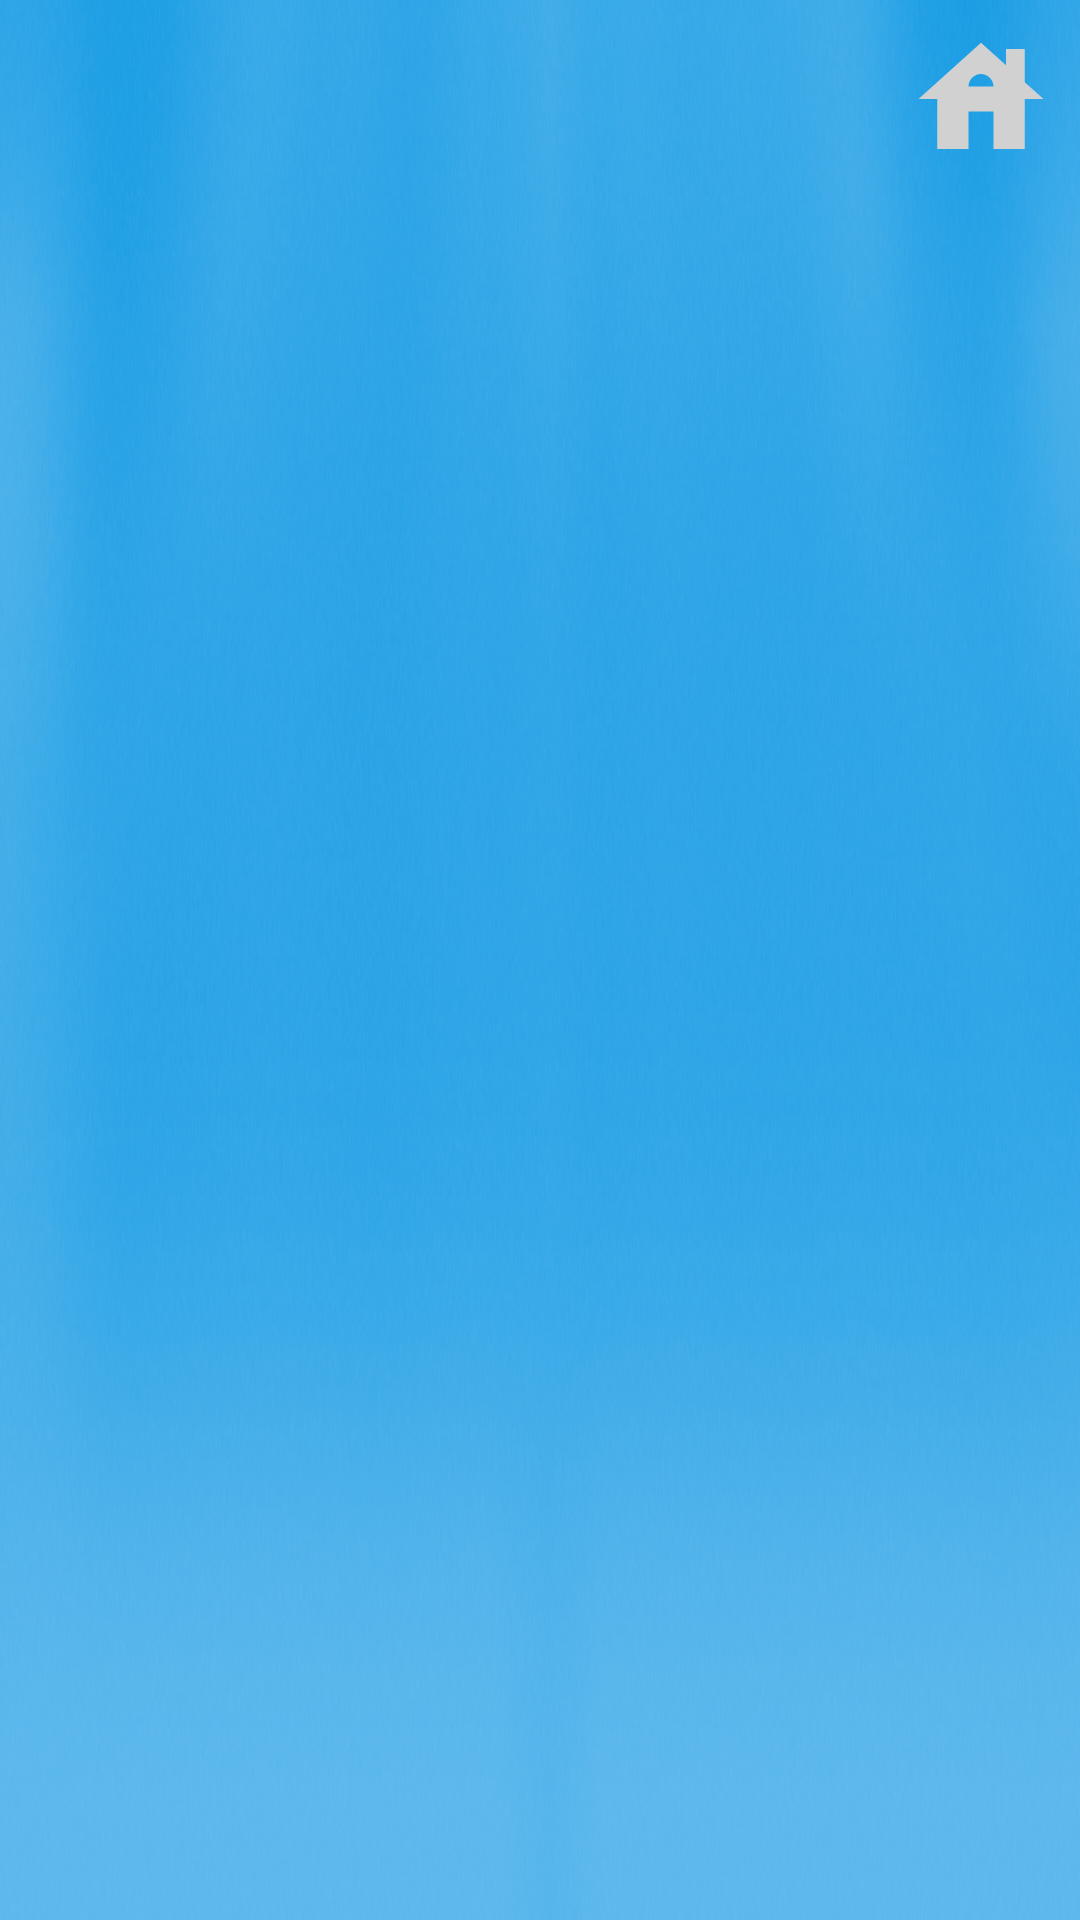

Locate icon controls on the screen. Image size 1080×1920, boxes as (x1, y1, x2, y2).
Home Button: (919, 43, 1043, 149)
